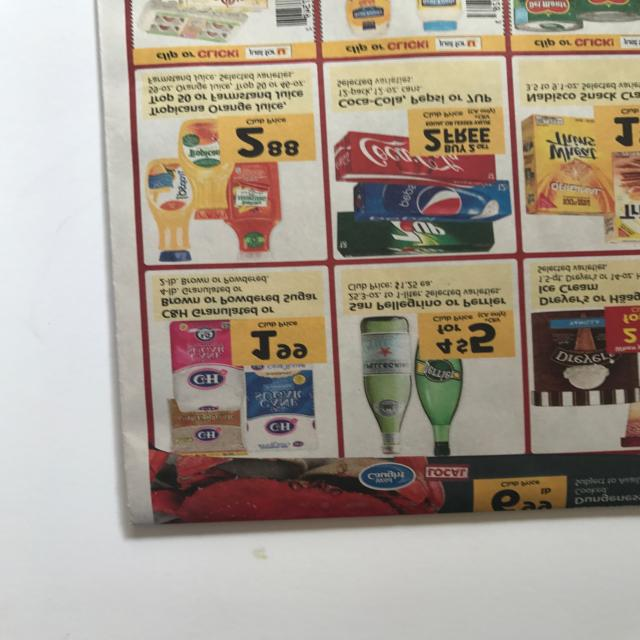paper: (80, 0, 640, 545)
